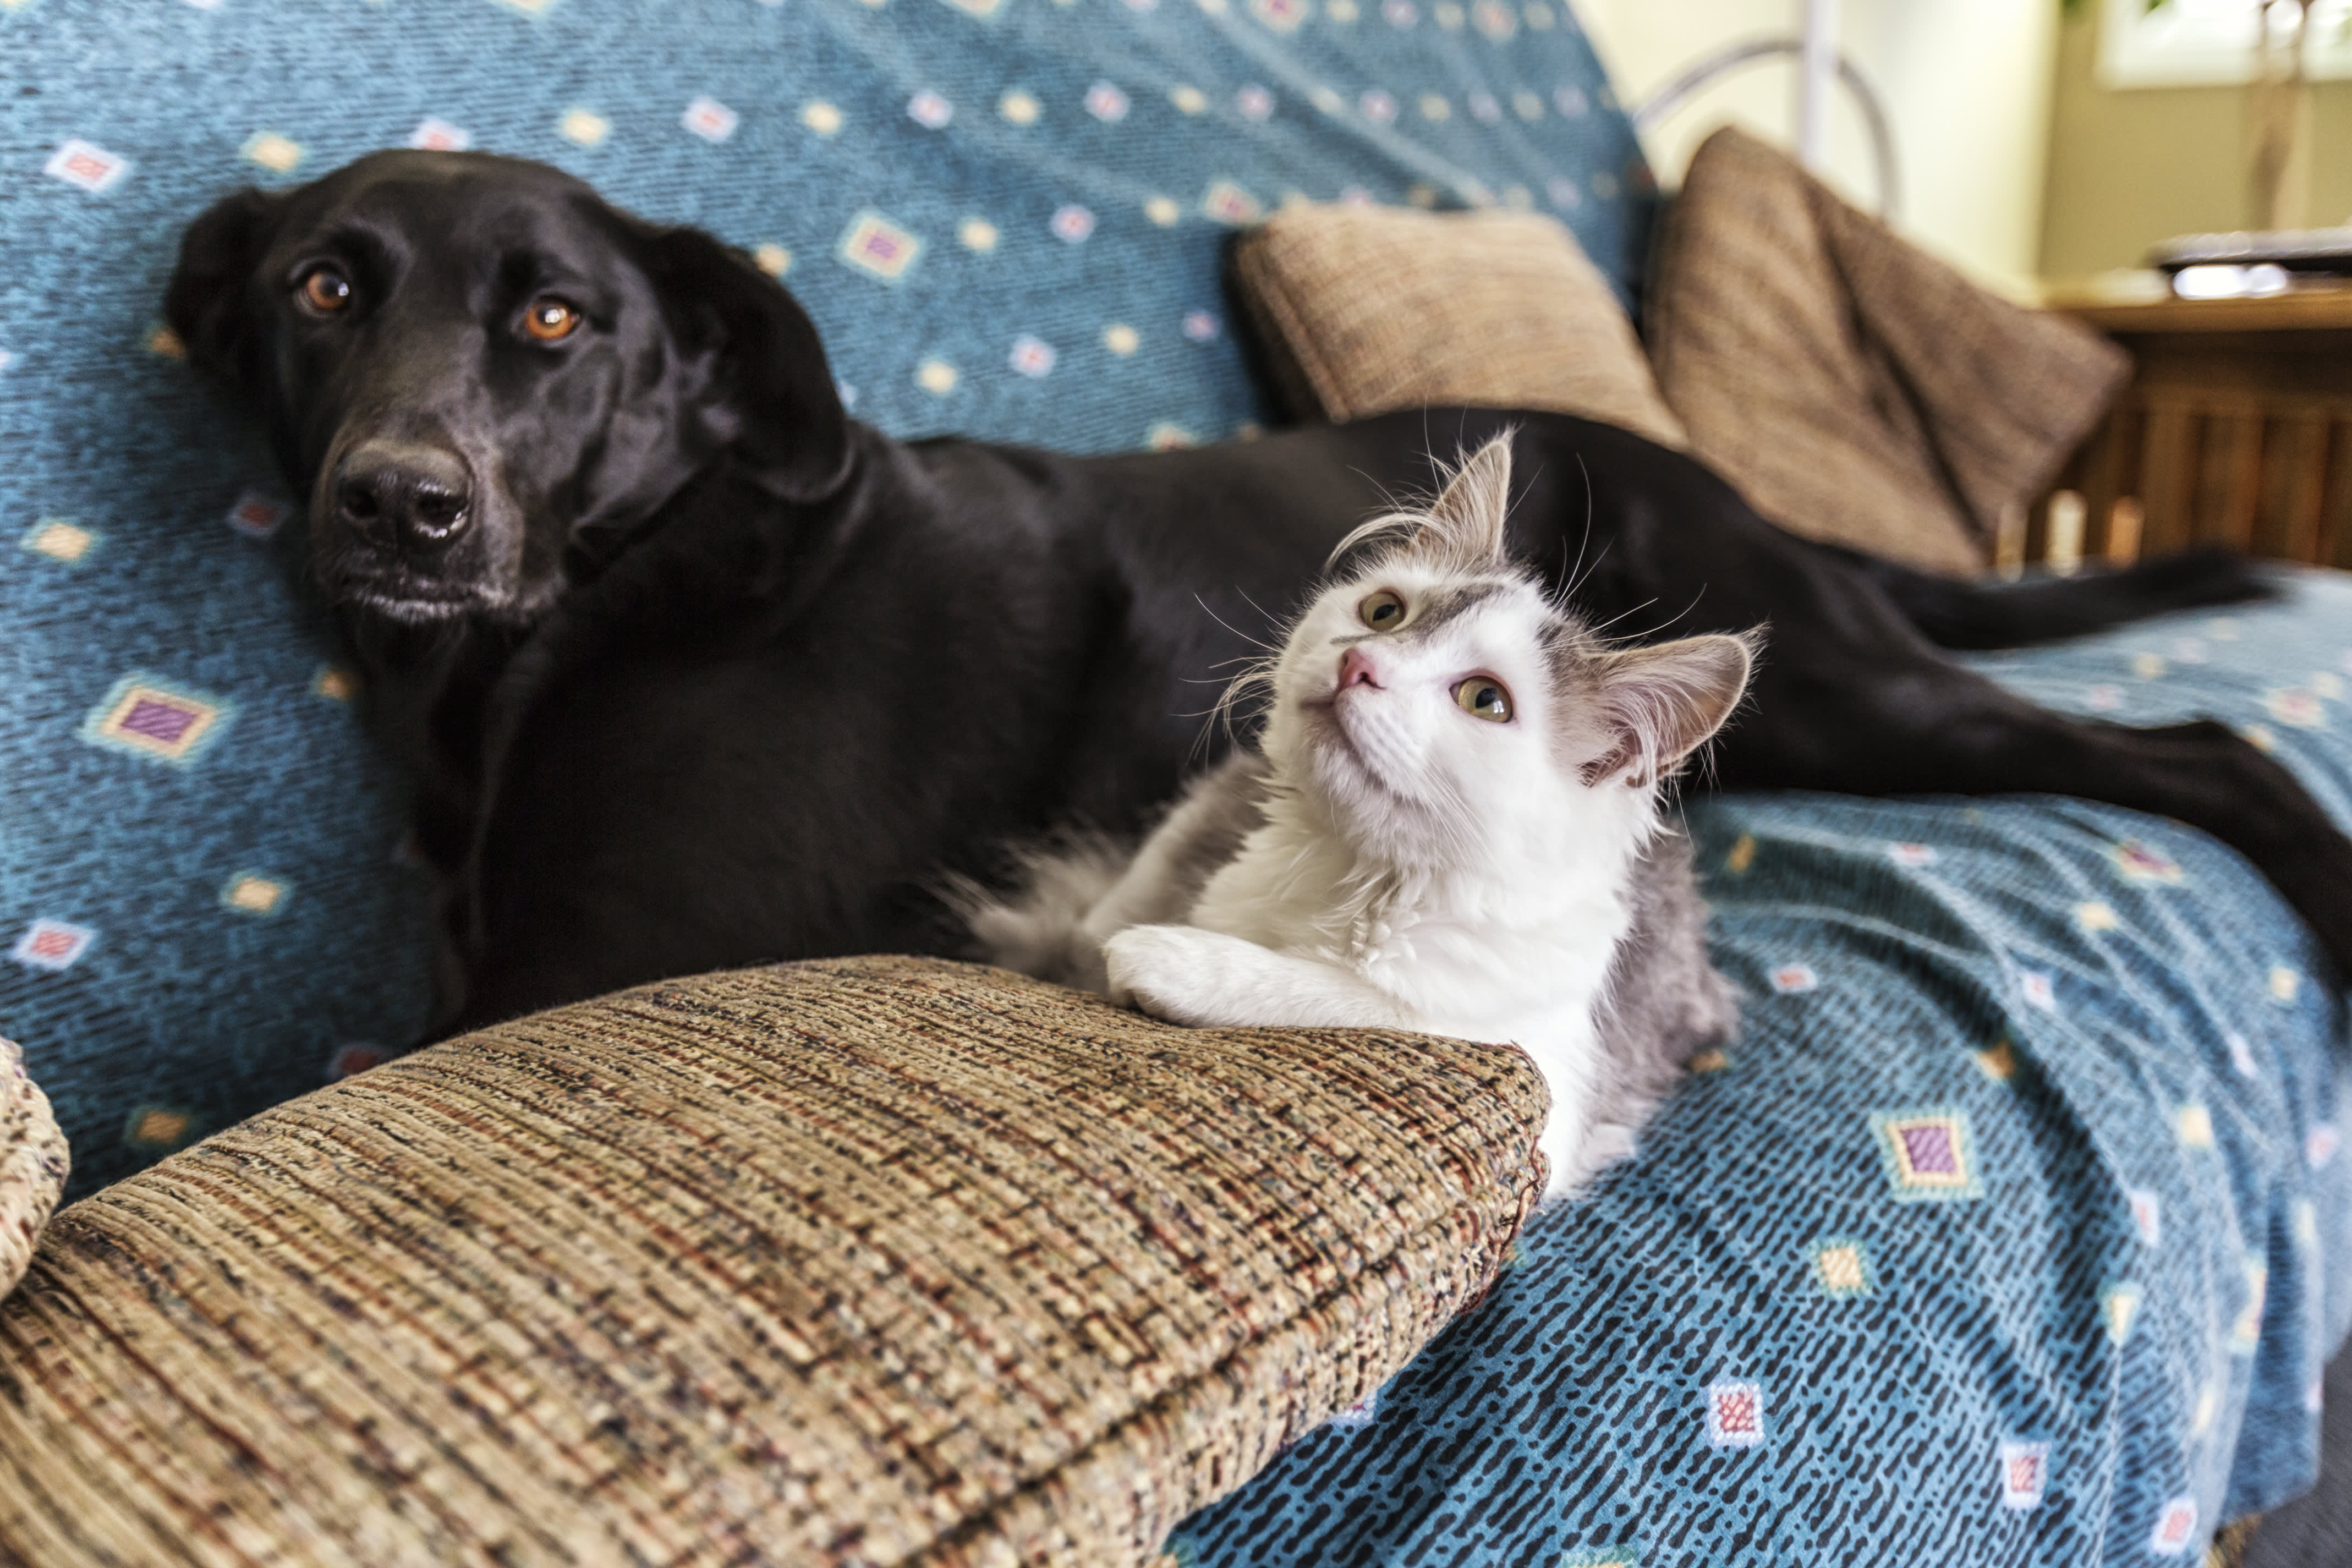pet: (1139, 646, 1722, 999)
